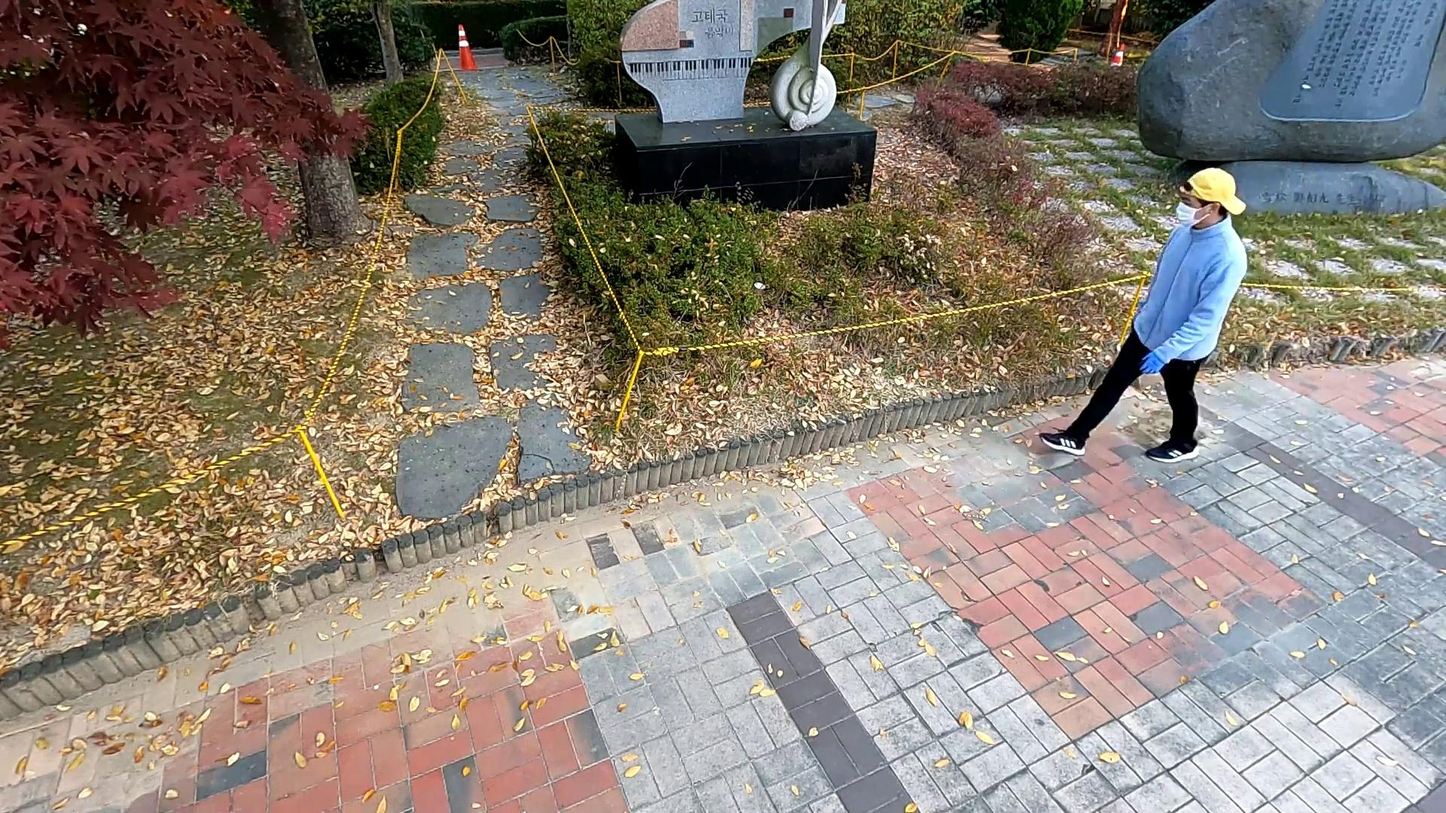person: (1034, 160, 1253, 474)
